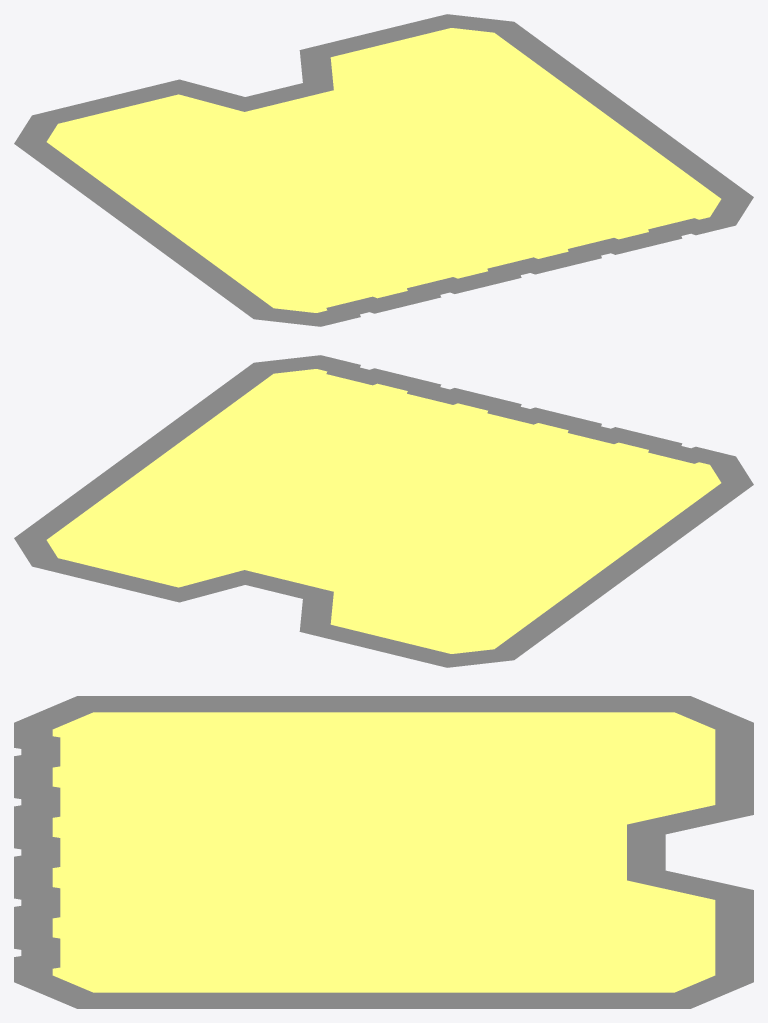
The model's file is RoofV2.FBX.
3 views of the same model, one above another, from view 1: azimuth 30°, elevation 25°; view 2: azimuth 150°, elevation 25°; view 3: azimuth 270°, elevation 25° (orthographic). The views are drawn at different scales.
Parts seen in each view (by area): view 1: Roof2; view 2: Roof2; view 3: Roof2.
Part boxes in pixels (bbox=[...]): Roof2: bbox=[14, 14, 753, 326]; Roof2: bbox=[14, 355, 753, 667]; Roof2: bbox=[14, 696, 753, 1008].
Bounding box in the file's own units: 291 × 0.000949 × 291.
